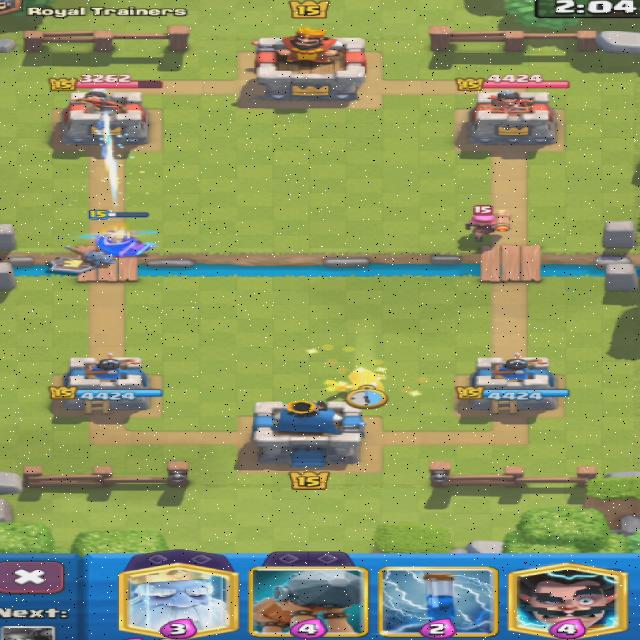Enemy-Firecracker: (464, 209, 513, 243)
Enemy-KingTower: (256, 29, 365, 103)
Enemy-PrincessTower: (468, 90, 555, 146), (60, 91, 148, 144)
Player-Bandit: (327, 368, 383, 392)
Player-KingTower: (252, 402, 365, 466)
Player-MagicArcher: (82, 228, 156, 257)
Player-PrincessTower: (48, 354, 163, 414), (469, 354, 557, 412)
